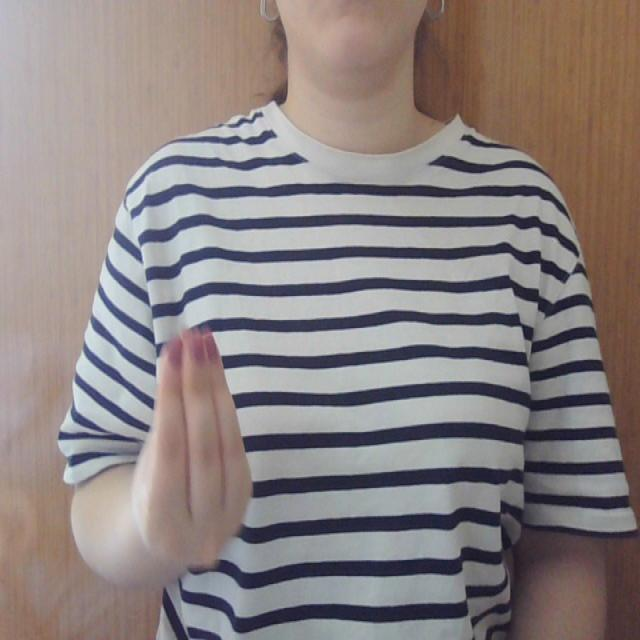iyi: (124, 318, 259, 579)
